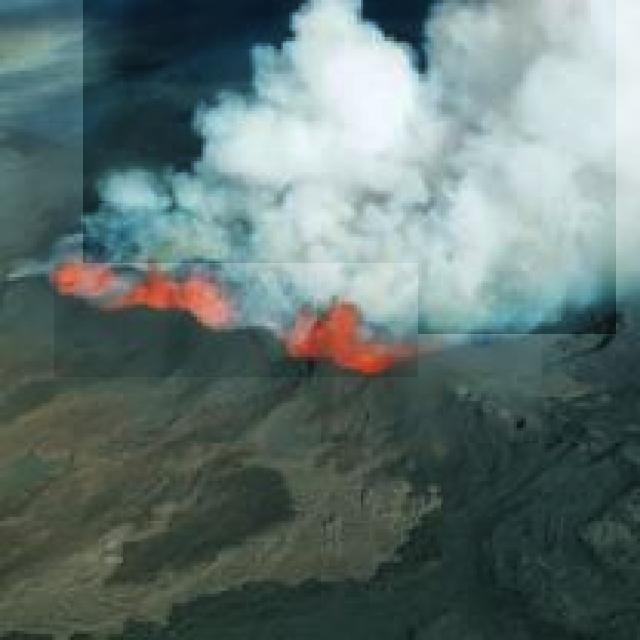Fire: (54, 263, 418, 377)
Smoke: (83, 0, 616, 334)
